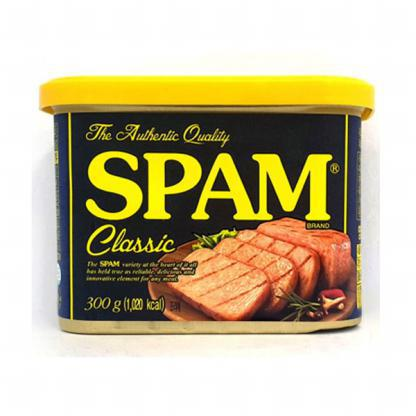spam: (35, 71, 380, 339)
